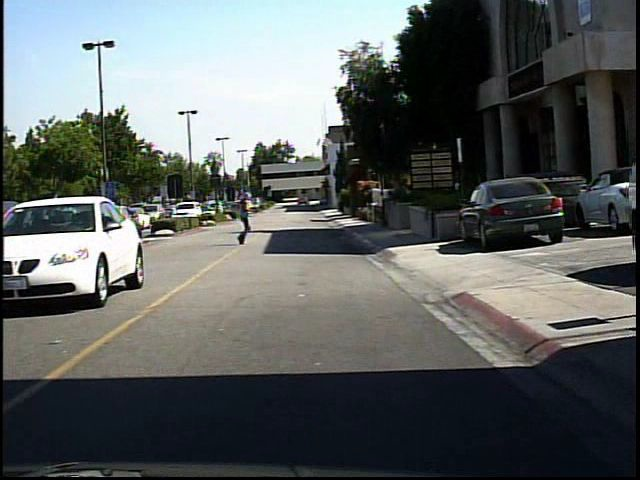person: (226, 187, 257, 248)
